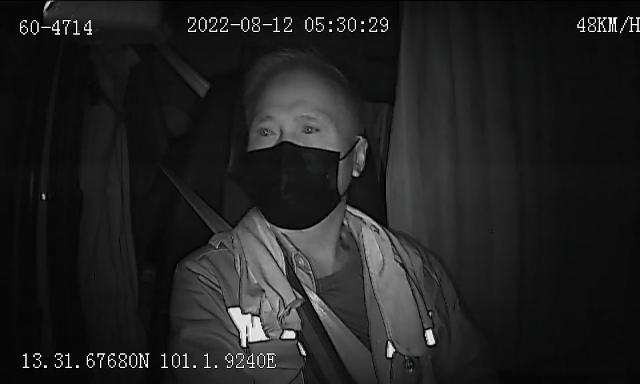SafeDriving: (294, 117, 327, 137), (253, 120, 282, 140)
Seatbelt: (165, 162, 231, 230)
